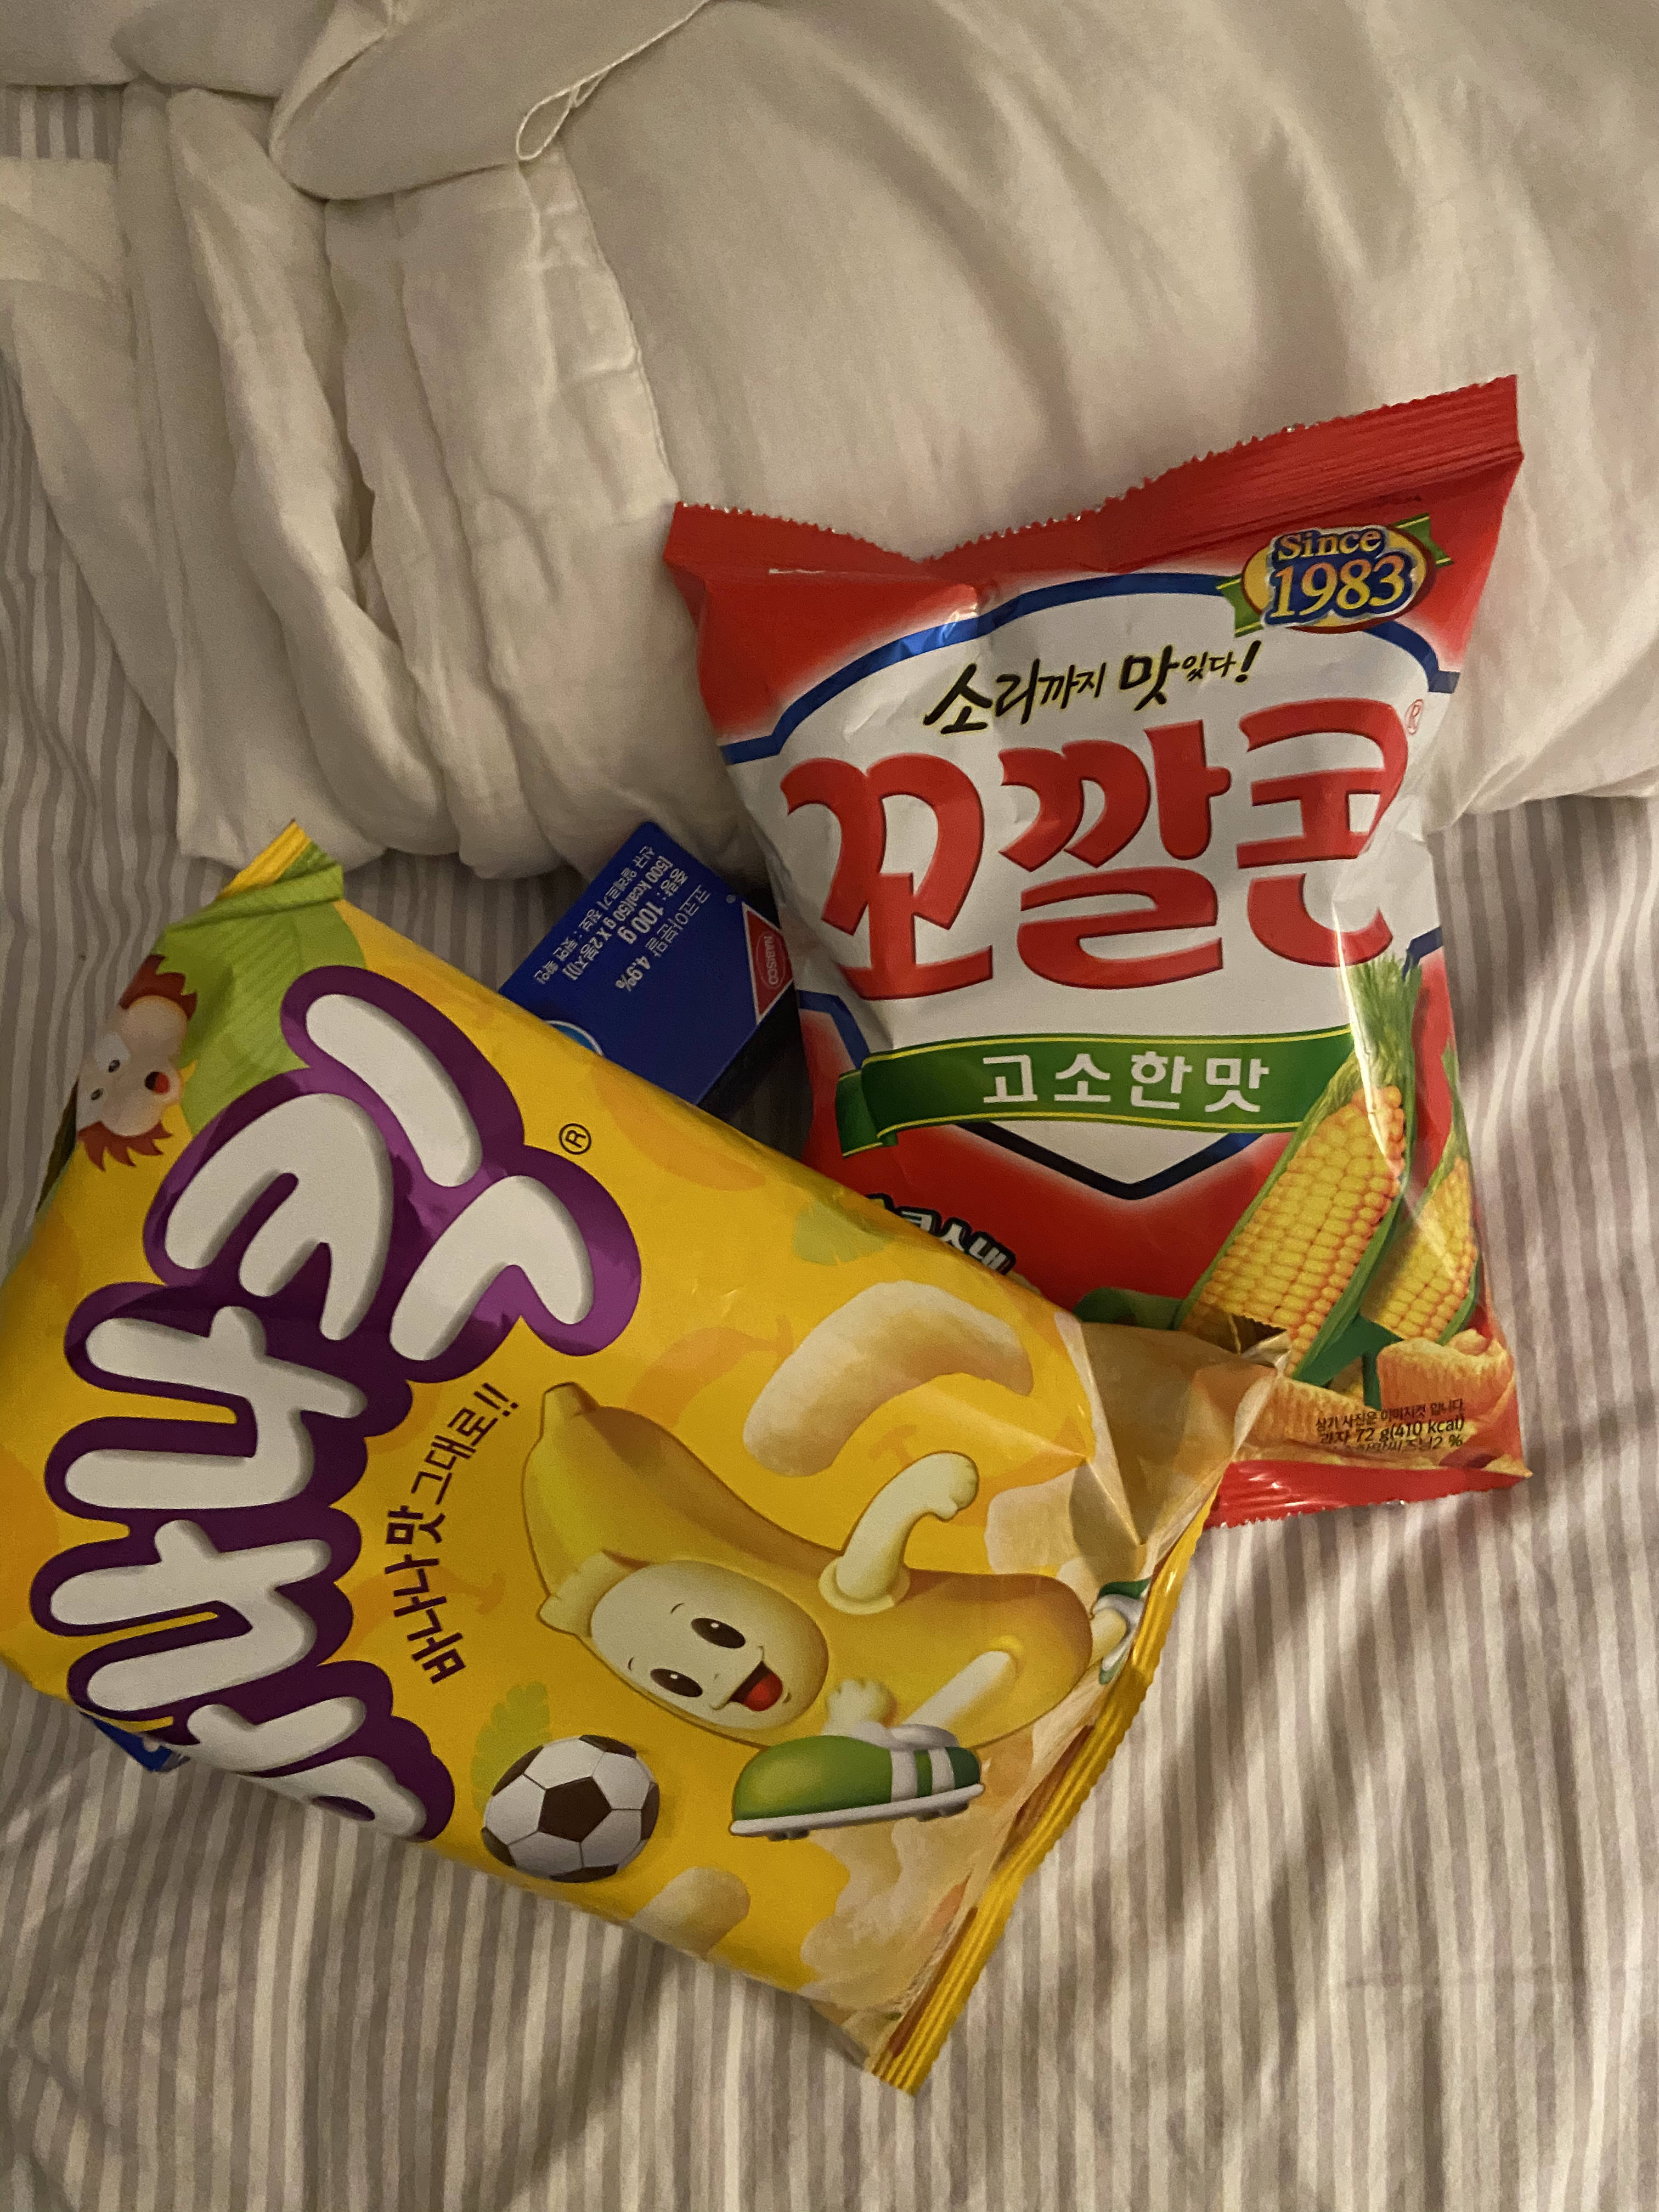banana: (0, 810, 1297, 2109)
ggoggalcon: (641, 364, 1567, 1524)
